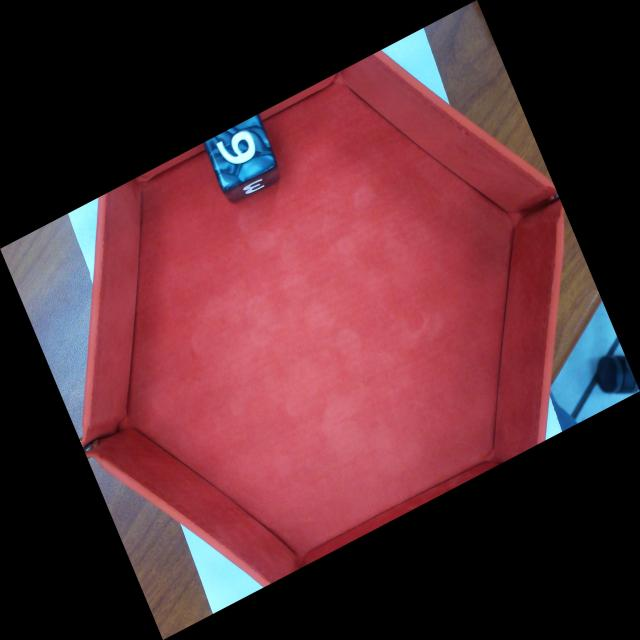dice: (203, 111, 280, 191)
